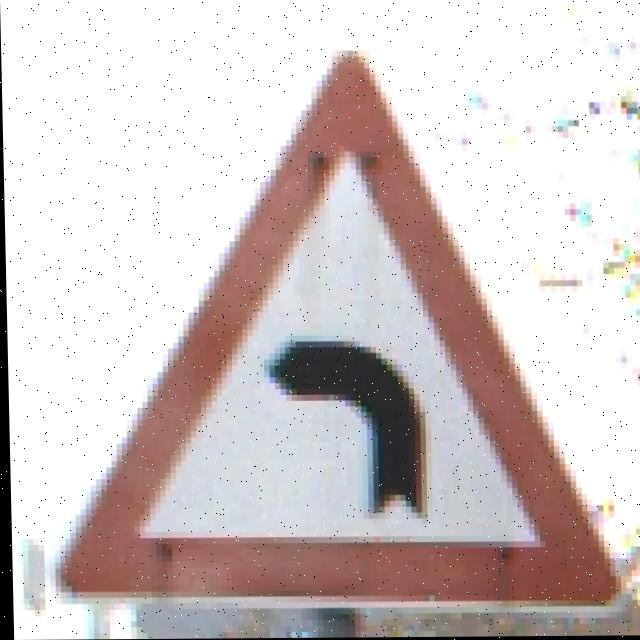left_turn: (62, 110, 622, 615)
